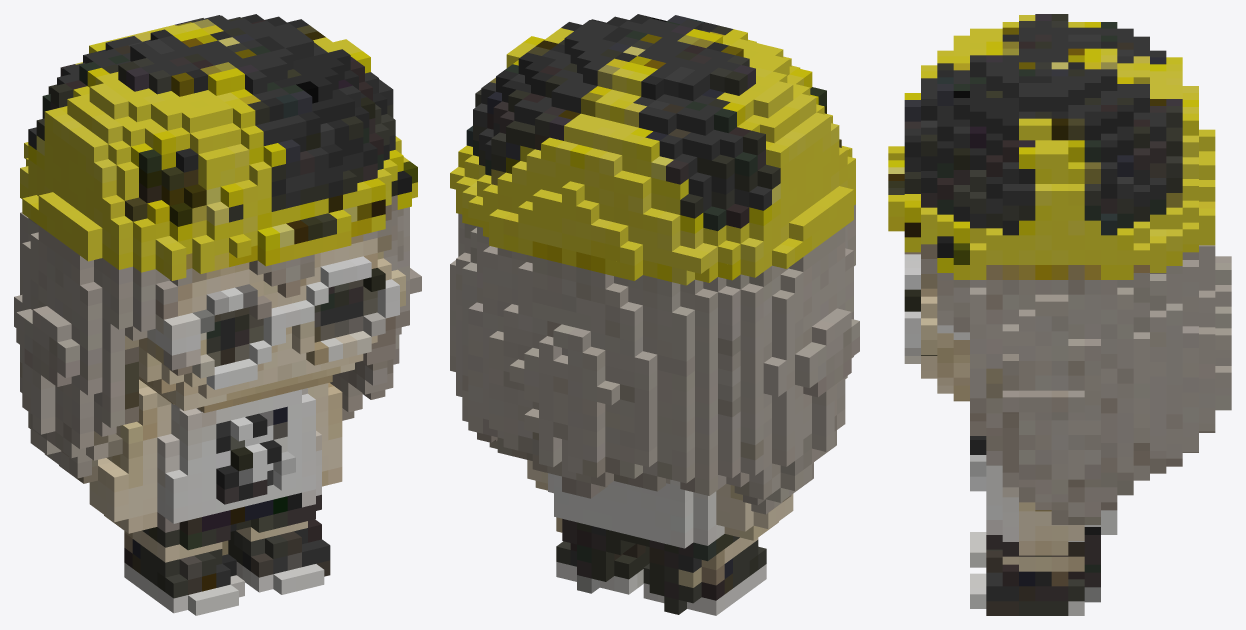
File: alon_build.glb
3 views of the same model, side by side, from view 1: azimuth 30°, elevation 25°; view 2: azimuth 150°, elevation 25°; view 3: azimuth 270°, elevation 25° (orthographic). The views are drawn at different scales.
Bounding box in the file's own units: 25 × 35 × 21.
